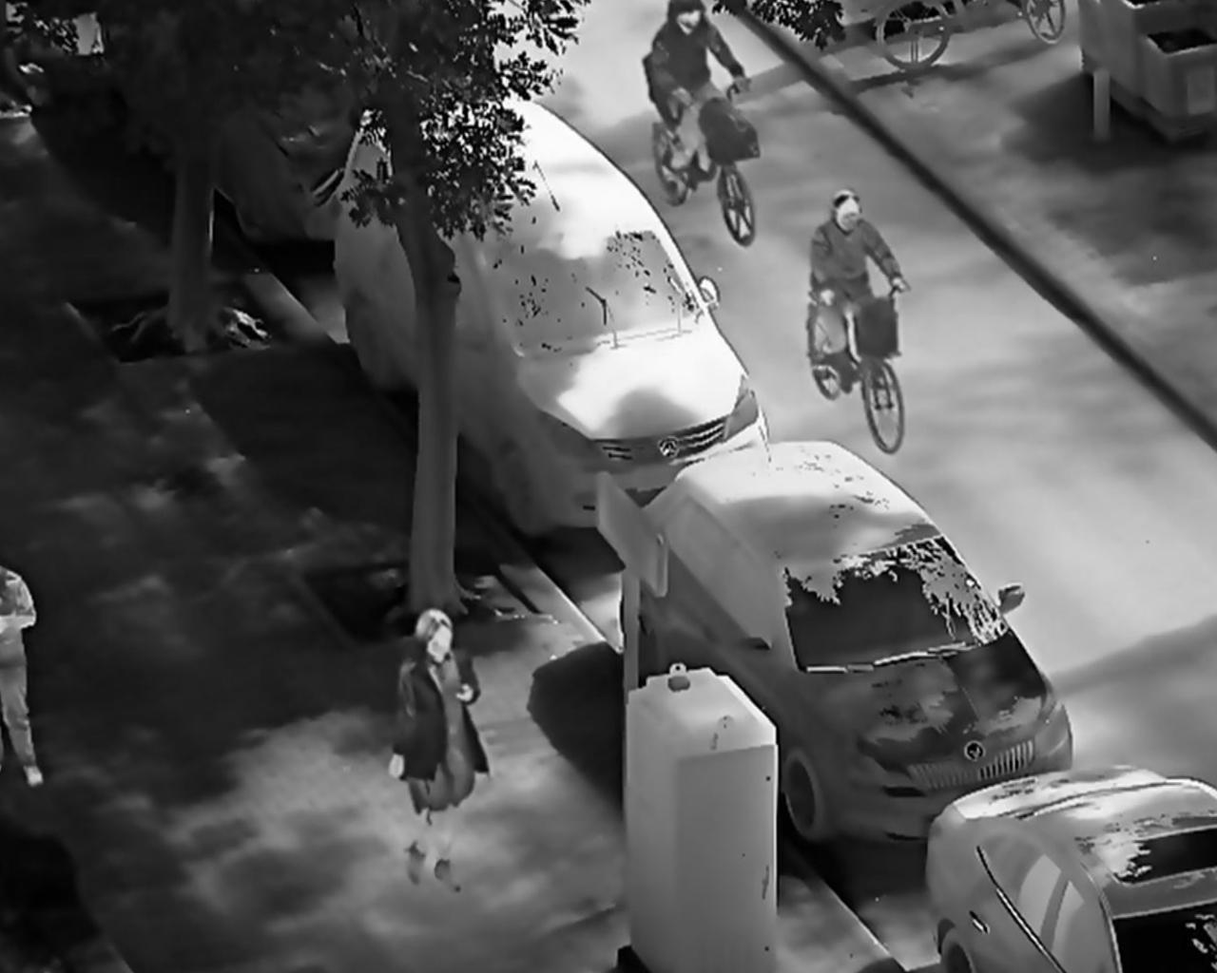person: (389, 604, 500, 895), (809, 185, 912, 361)
